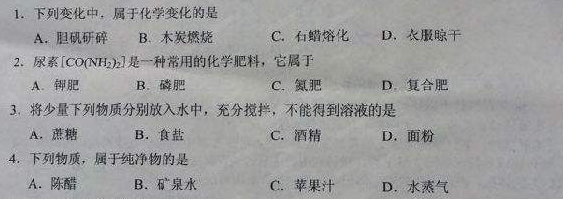text: (26, 176, 451, 198), (23, 128, 438, 146), (27, 28, 459, 45), (8, 101, 400, 118), (31, 78, 452, 92), (12, 54, 317, 68), (5, 153, 193, 167), (7, 6, 219, 18)
